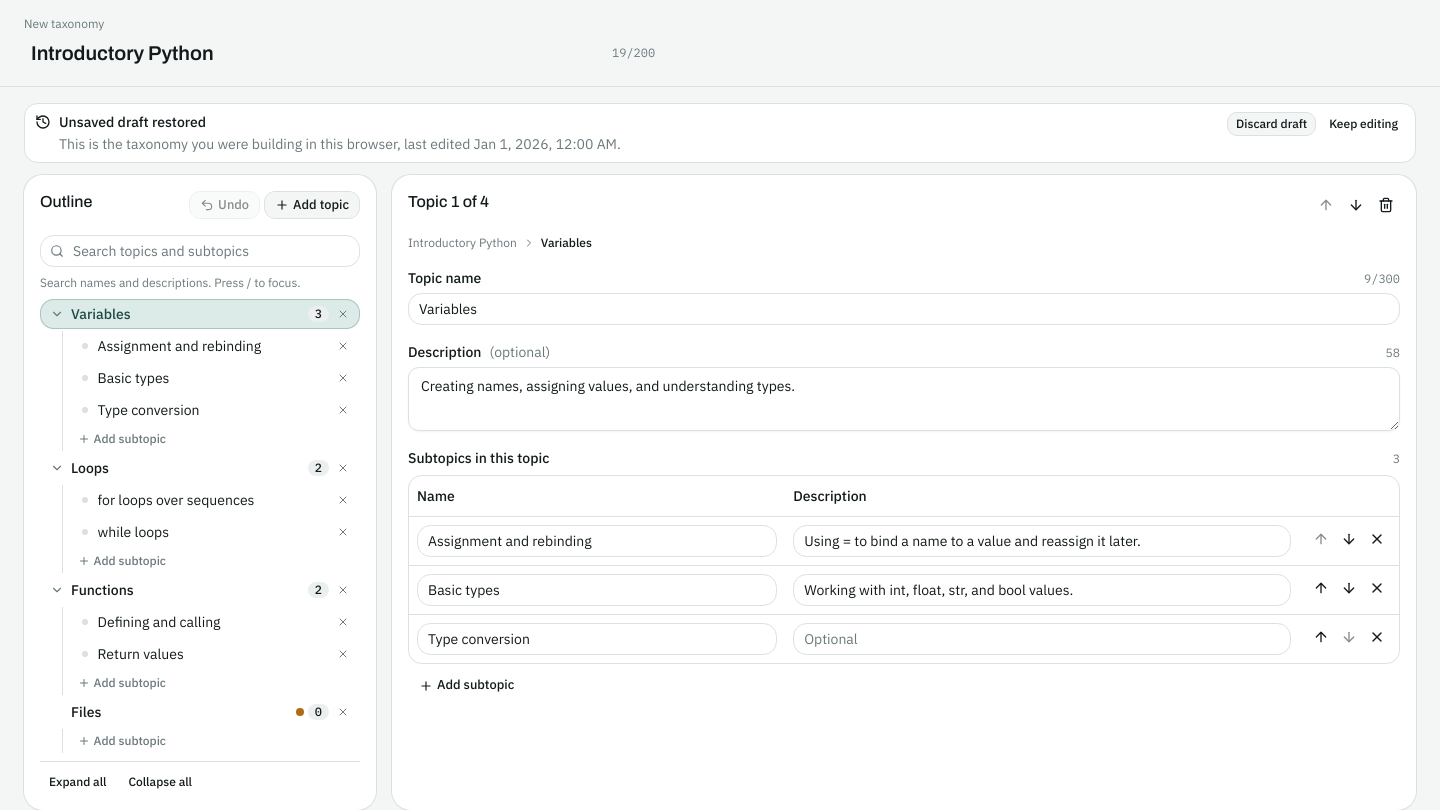
Scenario: TaxonomyBuilder › filters the outline as you search
Check: the text "Unsaved draft restored" is shown, box [59,113,206,131]
Type "rebinding" into the search field named "Search the outline".
click(200, 251); type("rebinding")  # box [40,235,360,267]
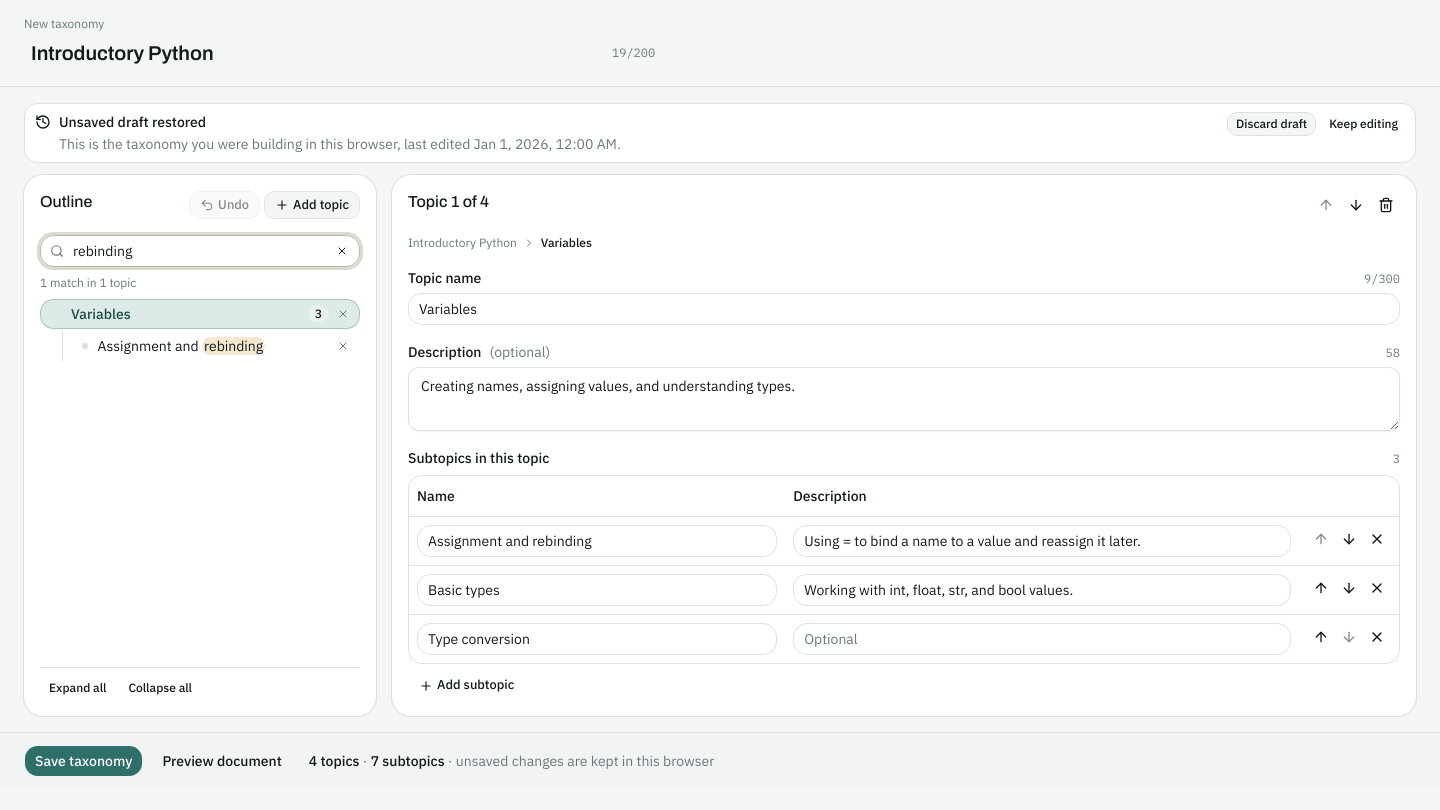
Check: the text "Assignment and rebinding" is shown, box [98,337,265,355]
Check: the text "Loops" is gone
